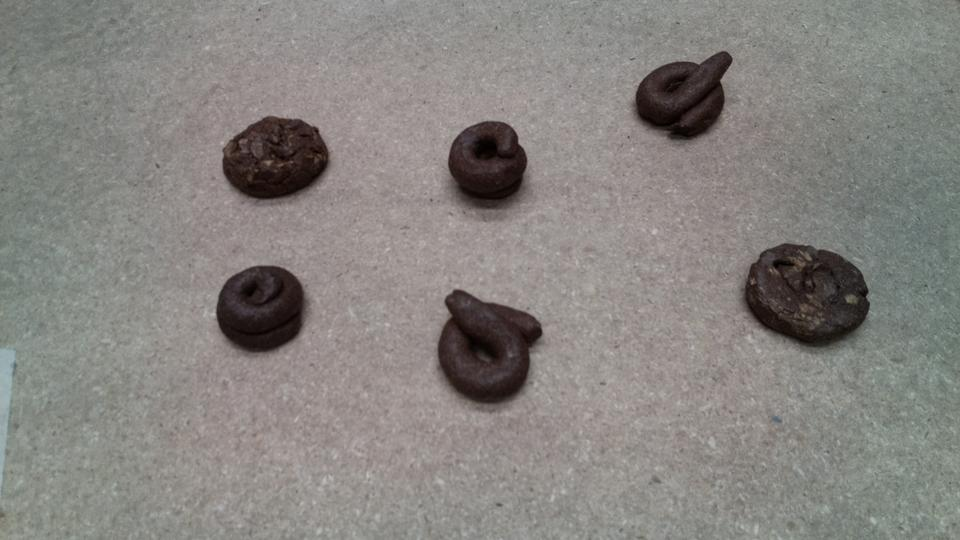poop: (742, 232, 873, 356), (429, 283, 550, 409), (630, 53, 744, 143), (208, 261, 313, 354), (216, 116, 333, 197), (436, 111, 533, 207)
